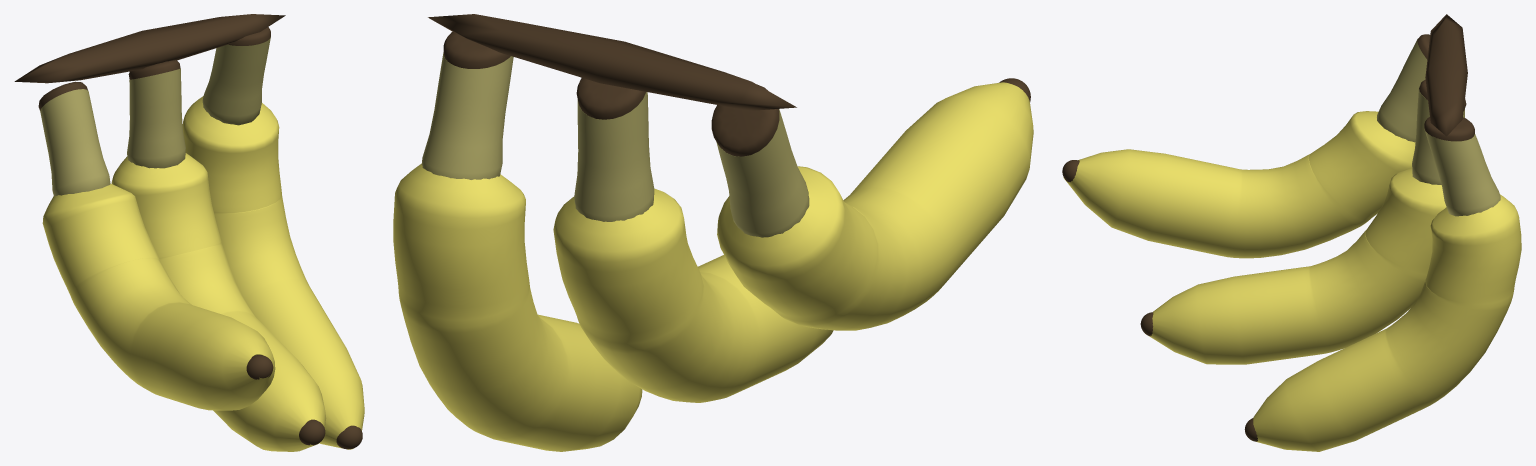
File: banana_drop.fbx
The picture shows the model from 3 angles, left to right: view 1: azimuth 30°, elevation 25°; view 2: azimuth 150°, elevation 25°; view 3: azimuth 270°, elevation 25°; orthographic projection. The views are drawn at different scales.
Visible parts, largest first — view 1: pSphere4, pSphere2, pSphere3, pCube1; view 2: pSphere2, pSphere4, pSphere3, pCube1; view 3: pSphere2, pSphere4, pSphere3, pCube1.
Boxes of the visible parts, x1,y1,x2,y2 form: pSphere4: (38, 81, 275, 410); pSphere2: (182, 27, 364, 449); pSphere3: (111, 60, 326, 451); pCube1: (14, 14, 285, 83); pSphere2: (393, 31, 642, 451); pSphere4: (711, 78, 1033, 330); pSphere3: (553, 78, 833, 402); pCube1: (428, 14, 796, 110); pSphere2: (1244, 117, 1521, 451); pSphere4: (1062, 34, 1430, 258); pSphere3: (1140, 79, 1466, 364); pCube1: (1425, 14, 1467, 136).
Bounding box in the file's own units: 6.34 × 8.17 × 9.95.
